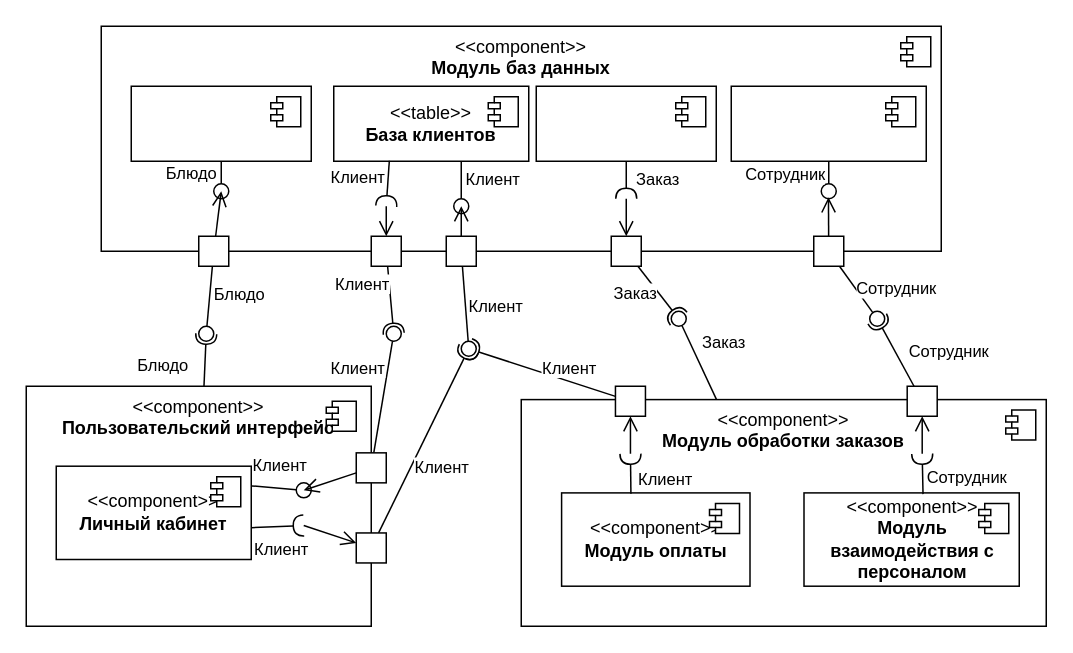
The diagram is 1073 pixels wide and 653 high, and some of its shapes have lost their labels. Here are the shapes that lost their labels. From the top down, the centre of each, then its label:
[220,123]: <<table>> База блюд
[625,123]: <<table>> База заказов
[828,123]: <<table>> База сотрудников
